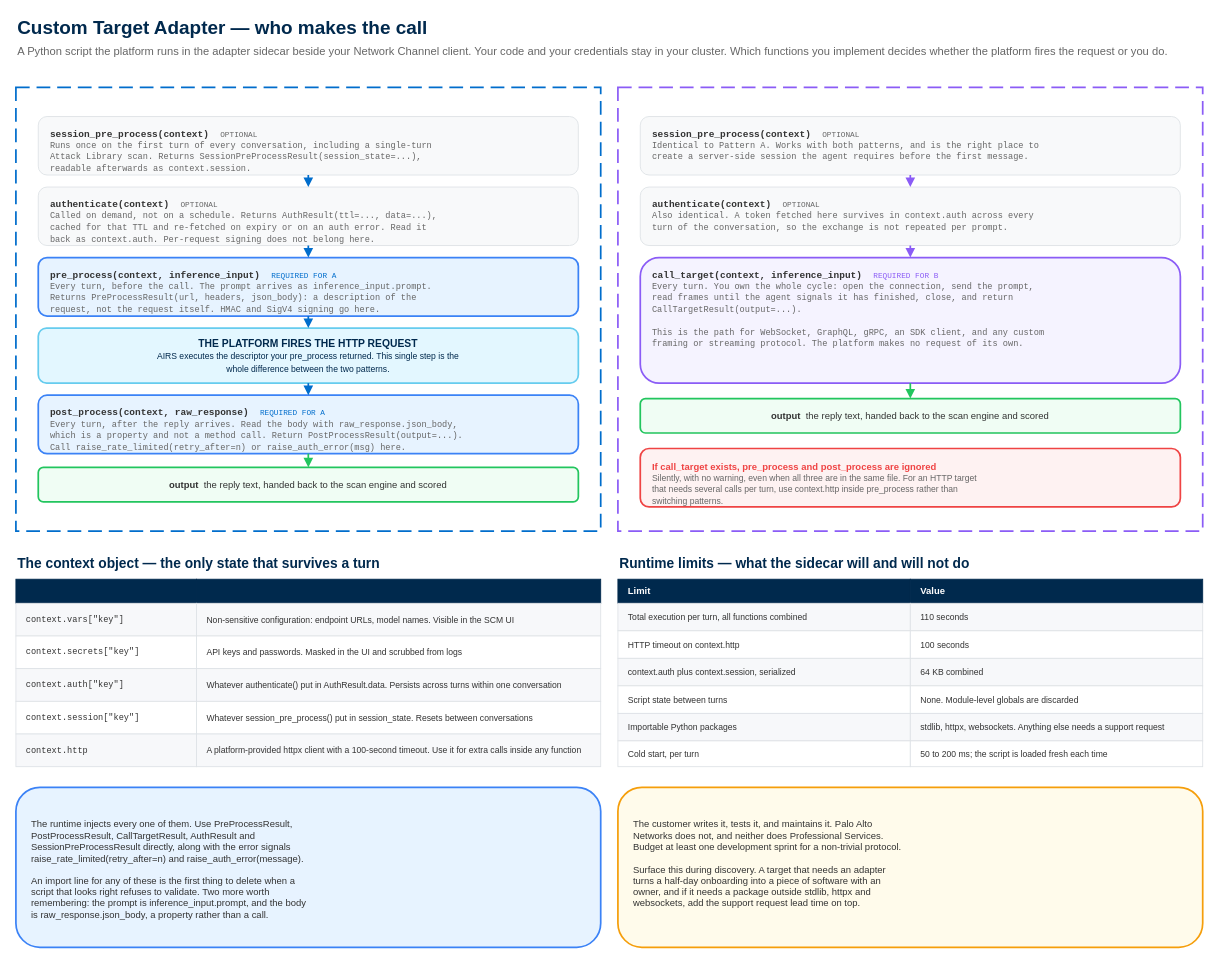
This 1218x962 diagram has some shape labels left out. The box of each missing label's shape, as (x1, y1, x2, y2) in pixels:
Attribute: (15, 578, 197, 603)
Do not import the result types: (15, 786, 601, 948)
PATTERN A — HTTP TARGETS, THE PLATFORM MAKES THE CALL: (15, 86, 601, 531)
PATTERN B — NON-HTTP TRANSPORTS, YOU MAKE THE CALL: (617, 86, 1203, 531)
The adapter is a development task, not a configuration task: (617, 786, 1203, 948)
What it holds: (196, 578, 601, 603)
